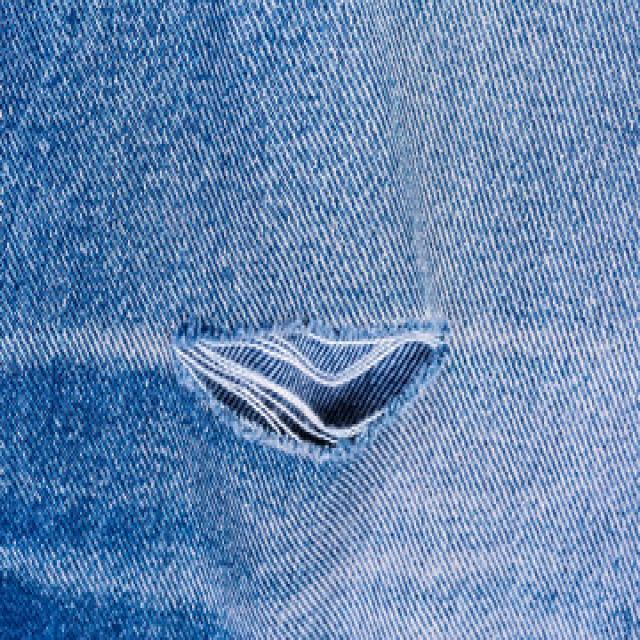Hole: (172, 321, 450, 461)
